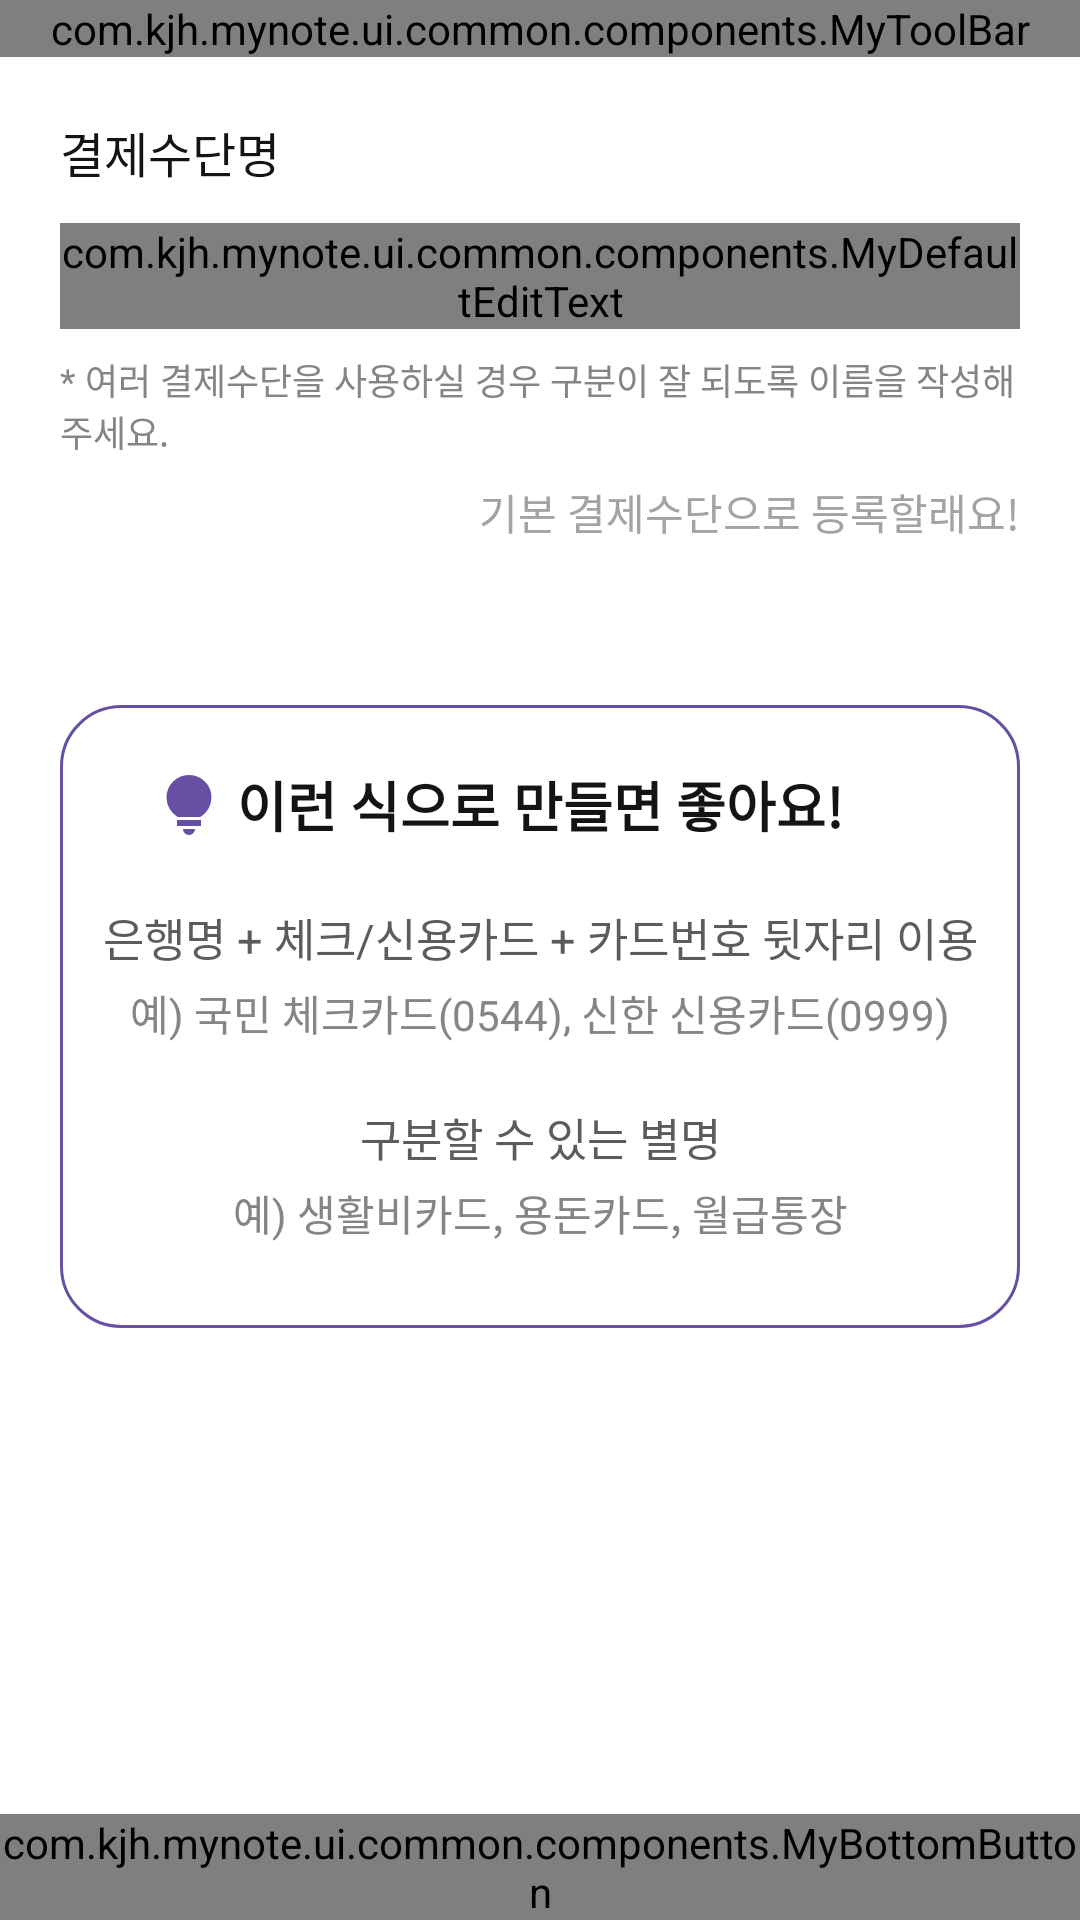

Where to tap for icons on this 1080*1920 app screen, as point (x, y):
lightbulb: point (189, 805)
